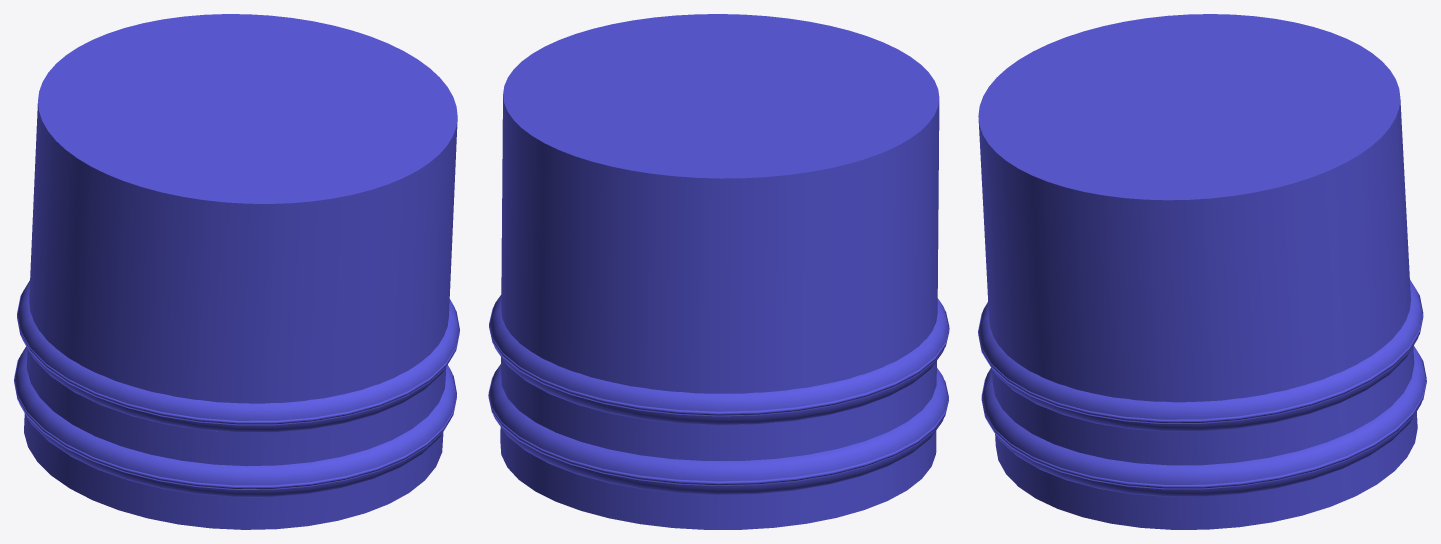
Rendered from bombilla205.obj.
The picture shows the model from 3 angles, left to right: view 1: azimuth 30°, elevation 25°; view 2: azimuth 150°, elevation 25°; view 3: azimuth 270°, elevation 25°; orthographic projection. The views are drawn at different scales.
Visible parts, largest first — view 1: Cylinder001, Cylinder004, Cylinder003, Cylinder002, Cylinder006; view 2: Cylinder001, Cylinder004, Cylinder003, Cylinder006, Cylinder002; view 3: Cylinder001, Cylinder004, Cylinder003, Cylinder002, Cylinder006.
Boxes of the visible parts, x1=… form: Cylinder001: x1=29, y1=14, x2=457, y2=403; Cylinder004: x1=14, y1=346, x2=456, y2=497; Cylinder003: x1=26, y1=349, x2=446, y2=466; Cylinder002: x1=17, y1=280, x2=459, y2=432; Cylinder006: x1=24, y1=413, x2=443, y2=529; Cylinder001: x1=501, y1=14, x2=939, y2=393; Cylinder004: x1=488, y1=364, x2=948, y2=494; Cylinder003: x1=501, y1=357, x2=936, y2=460; Cylinder006: x1=500, y1=427, x2=936, y2=529; Cylinder002: x1=489, y1=295, x2=949, y2=425; Cylinder001: x1=978, y1=14, x2=1410, y2=402; Cylinder004: x1=981, y1=346, x2=1426, y2=496; Cylinder003: x1=991, y1=347, x2=1414, y2=465; Cylinder002: x1=978, y1=280, x2=1423, y2=431; Cylinder006: x1=995, y1=412, x2=1417, y2=529.
Bounding box in the file's own units: 72.45 × 62.93 × 72.72.
